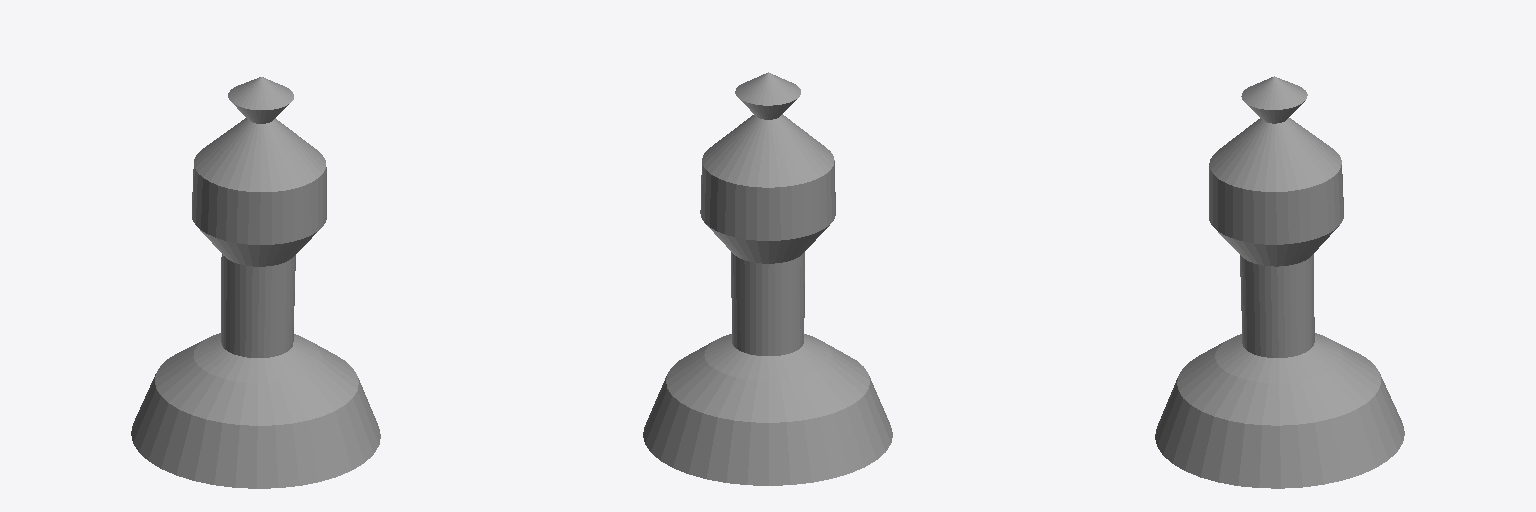
The model's file is whitebishop.obj.
3 renders of one model, left to right at view 1: azimuth 30°, elevation 25°; view 2: azimuth 150°, elevation 25°; view 3: azimuth 270°, elevation 25°, orthographic.
Visible parts, largest first — view 1: Cube; view 2: Cube; view 3: Cube.
Boxes of the visible parts, x1=… form: Cube: x1=131, y1=77, x2=380, y2=488; Cube: x1=643, y1=72, x2=892, y2=485; Cube: x1=1155, y1=76, x2=1404, y2=488.
Bounding box in the file's own units: 2.42 × 3.86 × 2.42.